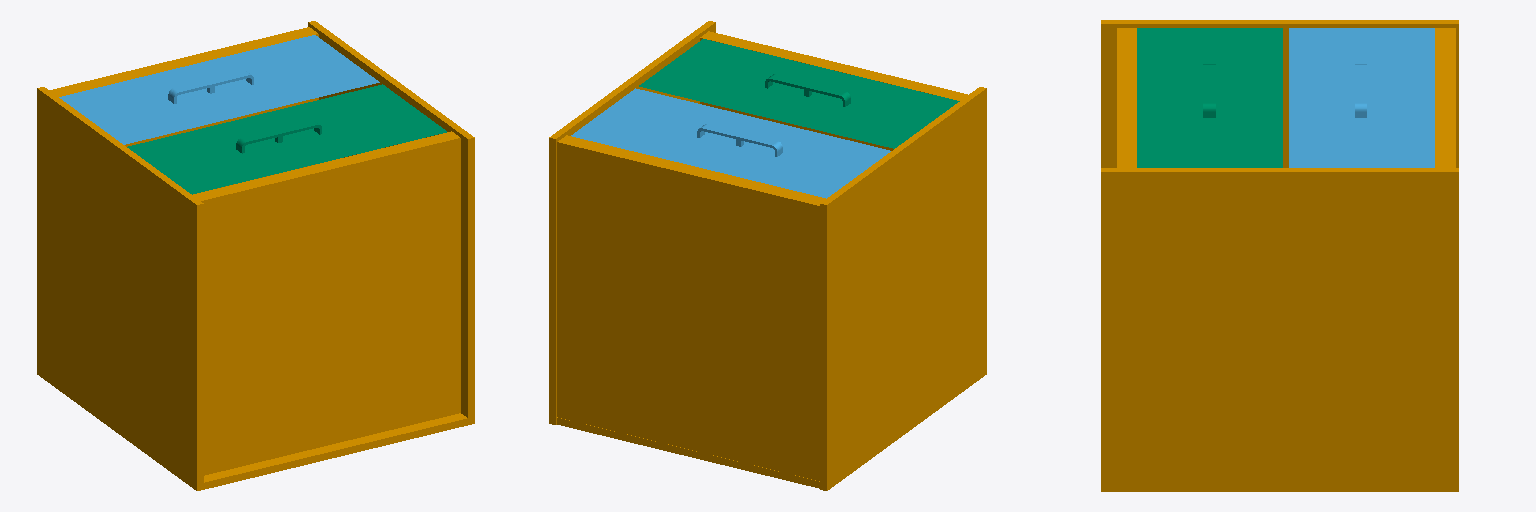
The robot description file, URDF, robot "predicted_drawer":
<?xml version="1.0"?>
<robot name="predicted_drawer">
  <link name="base_link">
    <visual>
      <geometry>
        <mesh filename="meshes/part_00.stl"/>
      </geometry>
    </visual>
  </link>
  <link name="link_manualv2_1778255578578_J0">
    <visual>
      <origin xyz="0.1426 -0.2248 -0.6232" rpy="0 0 0"/>
      <geometry>
        <mesh filename="meshes/part_02.stl"/>
      </geometry>
    </visual>
  </link>
  <joint name="joint_manualv2_1778255578578_J0" type="prismatic">
    <parent link="base_link"/>
    <child link="link_manualv2_1778255578578_J0"/>
    <origin xyz="-0.1426 0.2248 0.6232" rpy="0 0 0"/>
    <axis xyz="0.0000 0.0000 1.0000"/>
    <limit lower="0.0" upper="1.0000" effort="1000" velocity="1.0"/>
  </joint>
  <link name="link_manualv2_1778255578578_J1">
    <visual>
      <origin xyz="0.5641 0.2294 -0.6138" rpy="0 0 0"/>
      <geometry>
        <mesh filename="meshes/part_01.stl"/>
      </geometry>
    </visual>
  </link>
  <joint name="joint_manualv2_1778255578578_J1" type="revolute">
    <parent link="base_link"/>
    <child link="link_manualv2_1778255578578_J1"/>
    <origin xyz="-0.5641 -0.2294 0.6138" rpy="0 0 0"/>
    <axis xyz="-0.0059 -1.0000 0.0000"/>
    <limit lower="0.0" upper="1.5708" effort="1000" velocity="1.0"/>
  </joint>
</robot>

--- What the picture shows (computed from the rendered views, not written in the file) ---
3 views of the same robot in one strip: view 1: azimuth 30°, elevation 25°; view 2: azimuth 150°, elevation 25°; view 3: azimuth 270°, elevation 25° (orthographic).
Model predicted_drawer with 3 links and 2 joints (1 revolute, 1 prismatic), rooted at base_link, posed all joints at 0.
Links seen in each view (by area): view 1: base_link, link_manualv2_1778255578578_J0, link_manualv2_1778255578578_J1; view 2: base_link, link_manualv2_1778255578578_J1, link_manualv2_1778255578578_J0; view 3: base_link, link_manualv2_1778255578578_J0, link_manualv2_1778255578578_J1.
Link boxes in pixels (x1,y1,x2,y2): base_link: (37,21,474,490); link_manualv2_1778255578578_J0: (59,35,379,144); link_manualv2_1778255578578_J1: (127,84,446,194); base_link: (549,21,986,490); link_manualv2_1778255578578_J1: (639,39,959,148); link_manualv2_1778255578578_J0: (571,88,890,198); base_link: (1101,20,1458,491); link_manualv2_1778255578578_J0: (1289,28,1434,167); link_manualv2_1778255578578_J1: (1137,28,1282,167).
Bounding box of the posed robot: 1.2 × 1.2 × 1.21 m (x, y, z).
Meshes: 3 distinct files referenced, 3 mesh visuals loaded (3 binary STL).
